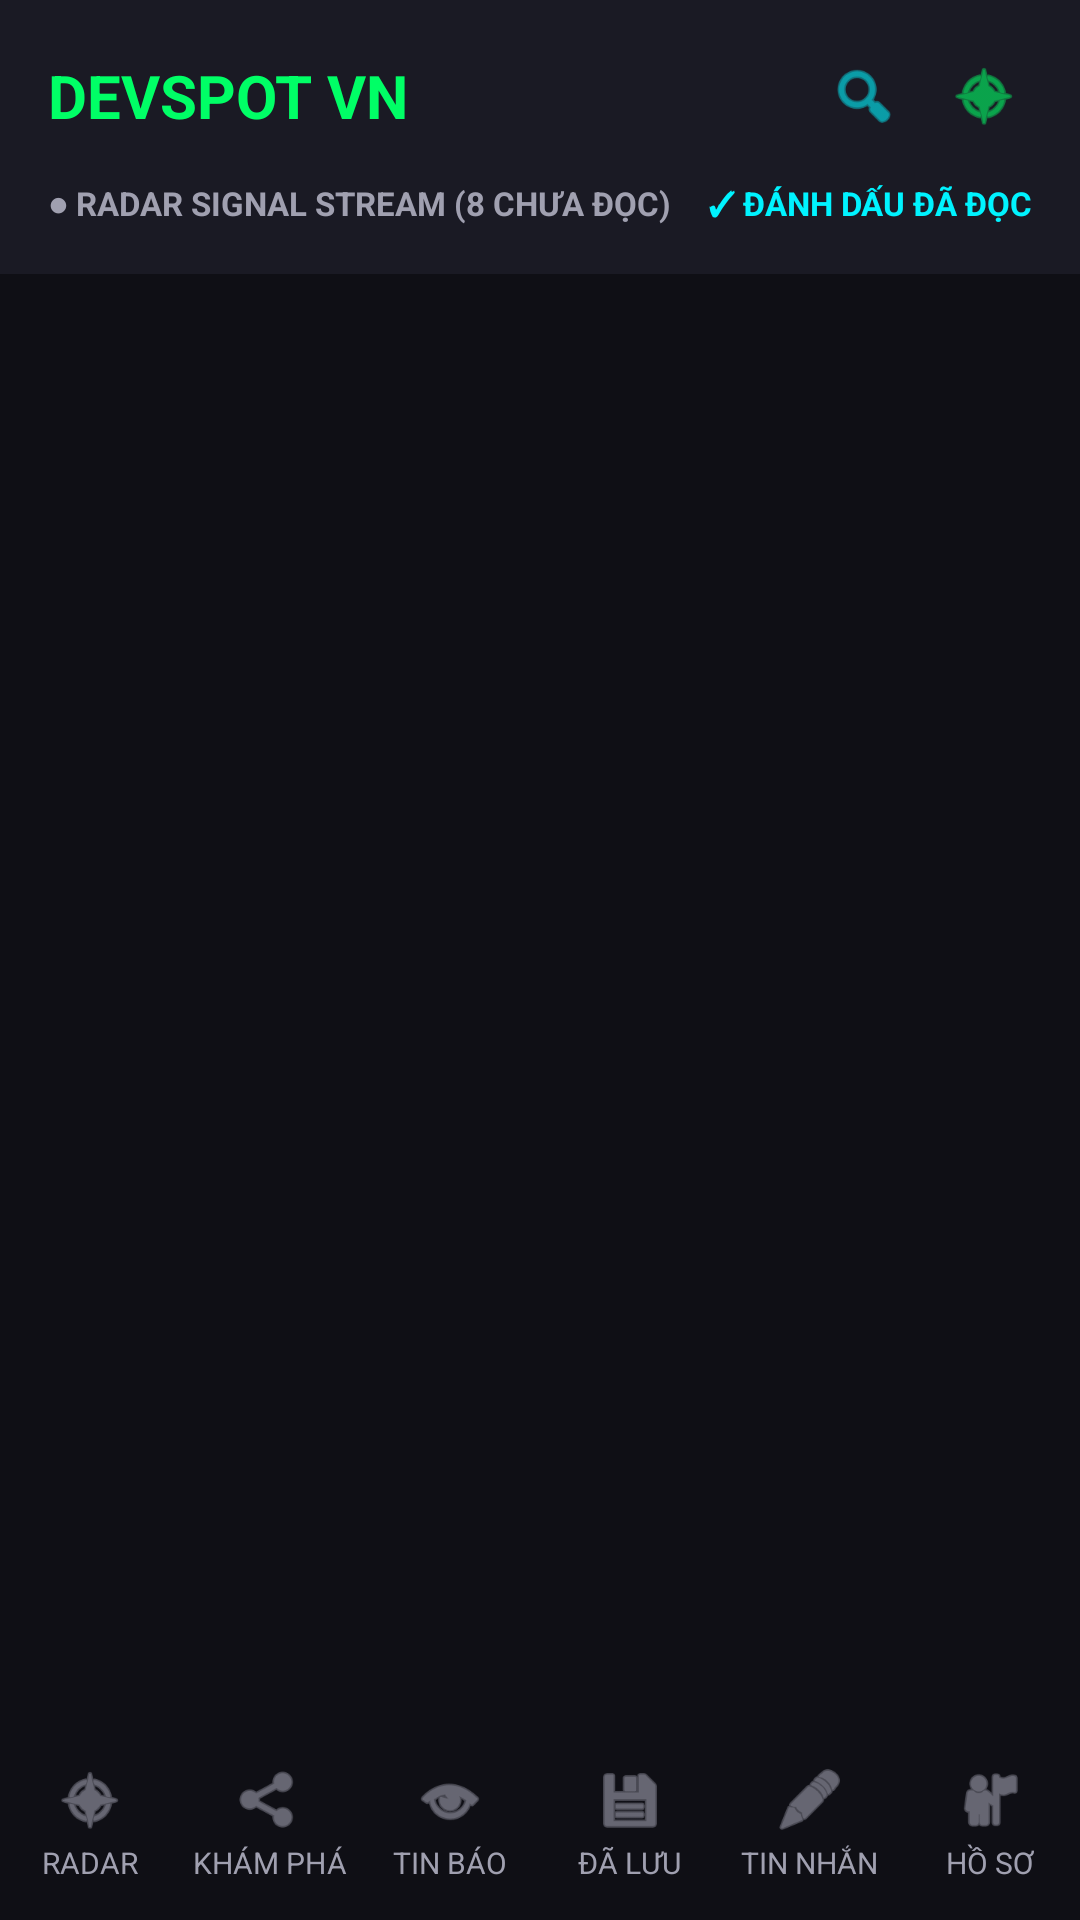

Named icons in this screenshot (1080w x 1920h) and their bounding boxes, [x1=x1, y1=y1, x2=x2, y2=y2]:
edit: [x1=779, y1=1769, x2=840, y2=1830]
search: [x1=837, y1=70, x2=891, y2=123]
share: [x1=239, y1=1772, x2=293, y2=1828]
view: [x1=421, y1=1784, x2=479, y2=1820]
